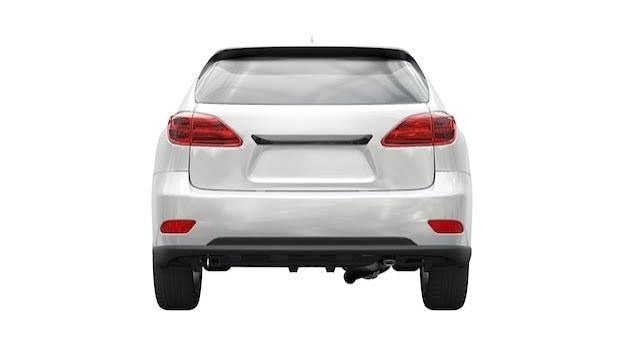car: (155, 40, 481, 312)
